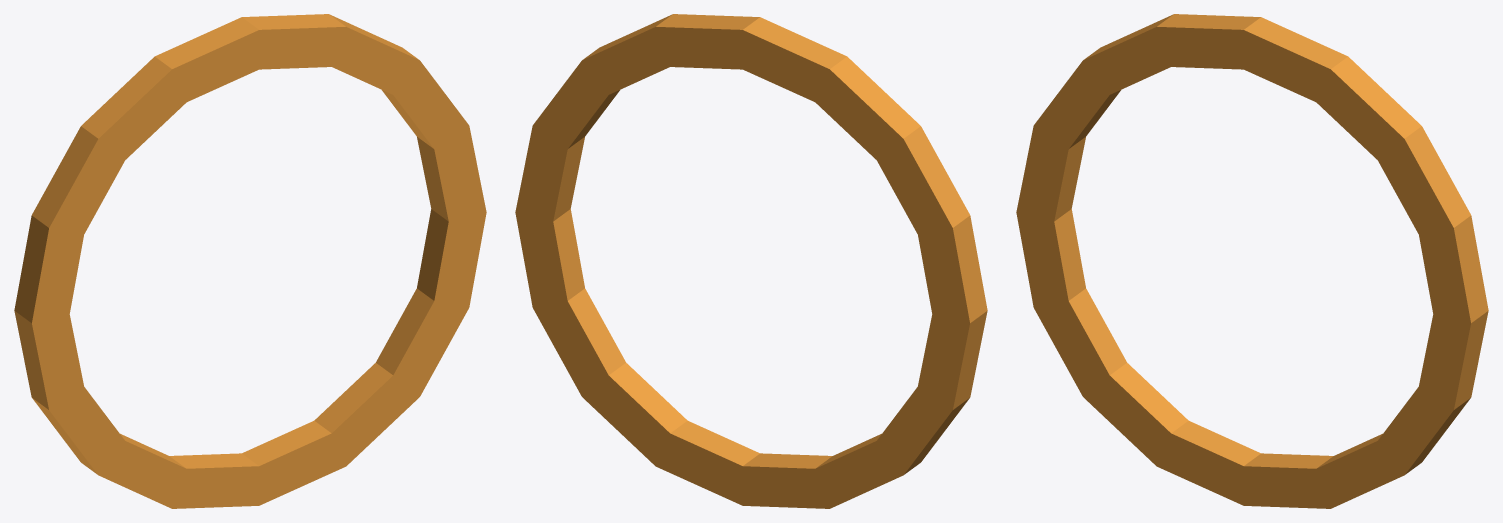
The model's file is gate-ring.gltf.
The picture shows the model from 3 angles, left to right: view 1: azimuth 30°, elevation 25°; view 2: azimuth 150°, elevation 25°; view 3: azimuth 330°, elevation 25°; orthographic projection.
Parts seen in each view (by area): view 1: track/gate-ring; view 2: track/gate-ring; view 3: track/gate-ring.
Boxes of the visible parts, x1,y1,x2,y2 form: track/gate-ring: [14, 14, 486, 508]; track/gate-ring: [515, 14, 987, 508]; track/gate-ring: [1016, 14, 1488, 508].
Size of the model in its own units: 1.8 by 1.8 by 0.12.
